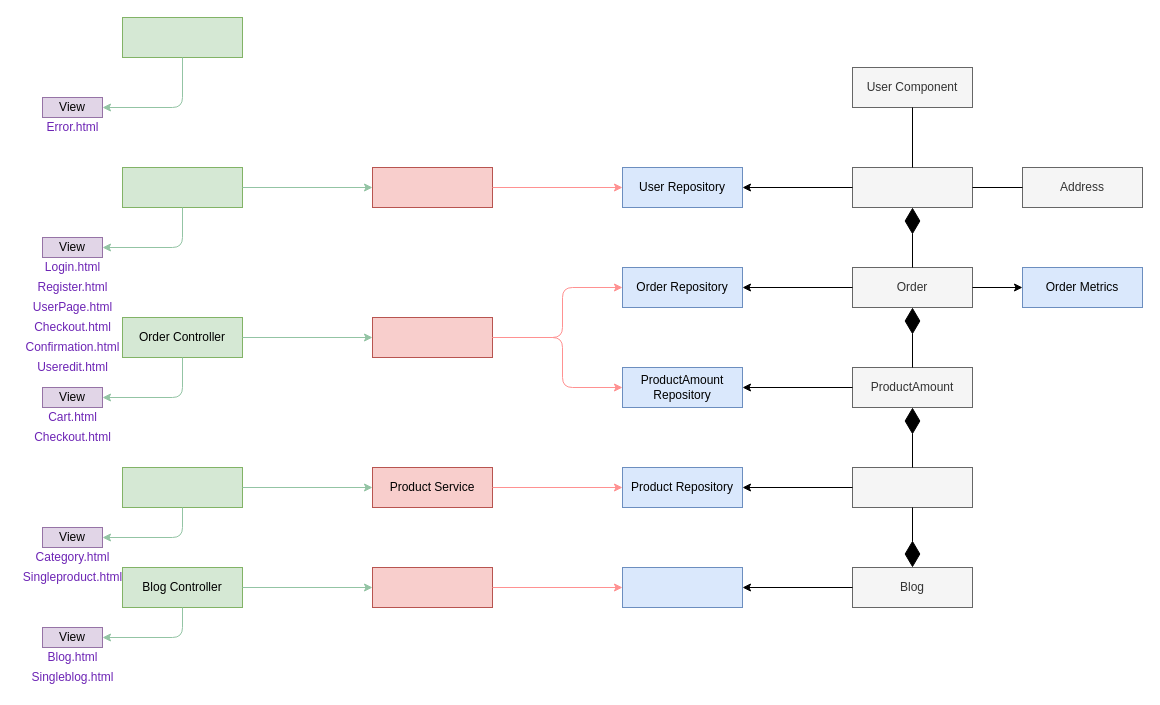
The diagram is 1160 pixels wide and 705 high, and some of its shapes have lost their labels. Here are the shapes that lost their labels. From the top down, the centre of each, then its label:
At [182,37]: "Error Controller".
At [182,187]: "User Controller".
At [432,187]: "User Service".
At [912,187]: "User".
At [432,337]: "Order Service".
At [182,487]: "Product Controller".
At [912,487]: "Product".
At [432,587]: "Blog Service".
At [682,587]: "Blog Repository".
